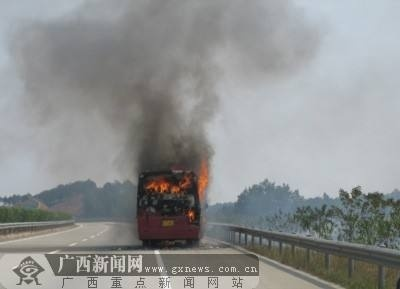fire: (141, 155, 212, 219)
